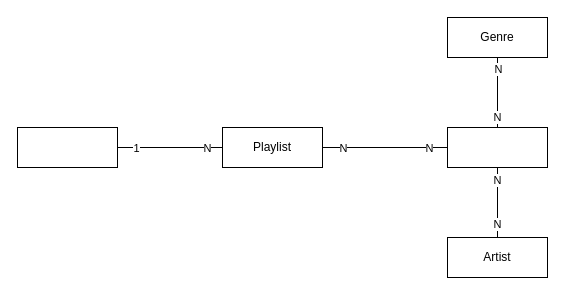
Some shapes in this 565 by 295 pixel diagram are drawn without their labels. The box of each missing label's shape, as (x1, y1, x2, y2) in pixels:
Track: (446, 126, 548, 168)
User: (16, 126, 118, 168)
